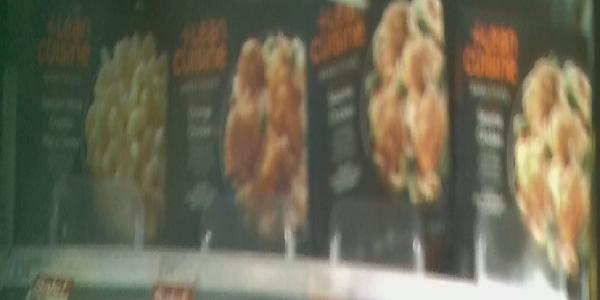pizza1: (458, 2, 597, 299), (311, 2, 457, 278), (16, 1, 168, 254), (169, 2, 311, 253)
